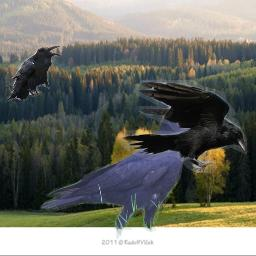Crow: (39, 100, 215, 243), (119, 80, 247, 173), (5, 46, 60, 103)
